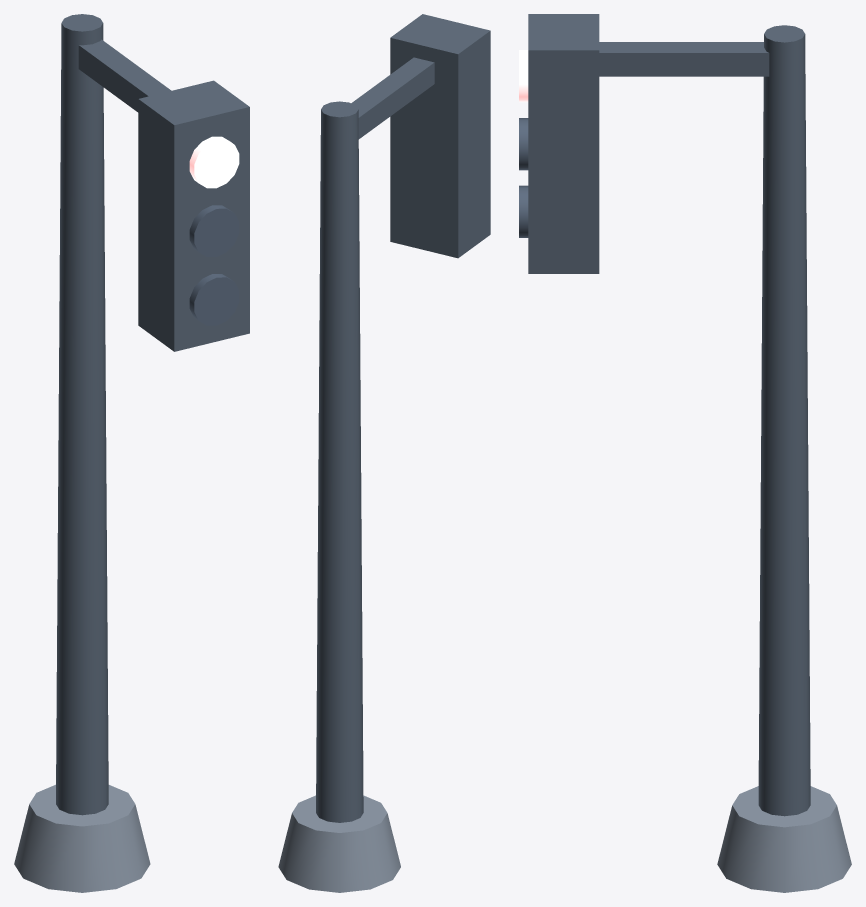
Rendered from traffic_light_pole.glb.
3 views of the same model, side by side, from view 1: azimuth 30°, elevation 25°; view 2: azimuth 150°, elevation 25°; view 3: azimuth 270°, elevation 25° (orthographic). The views are drawn at different scales.
Parts seen in each view (by area): view 1: traffic_light_pole; view 2: traffic_light_pole; view 3: traffic_light_pole.
Part boxes in pixels (<box>): traffic_light_pole: <box>14,14,249,892</box>; traffic_light_pole: <box>278,14,490,892</box>; traffic_light_pole: <box>519,14,851,892</box>.
Size of the model in its own units: 0.72 by 4.91 by 1.78.
